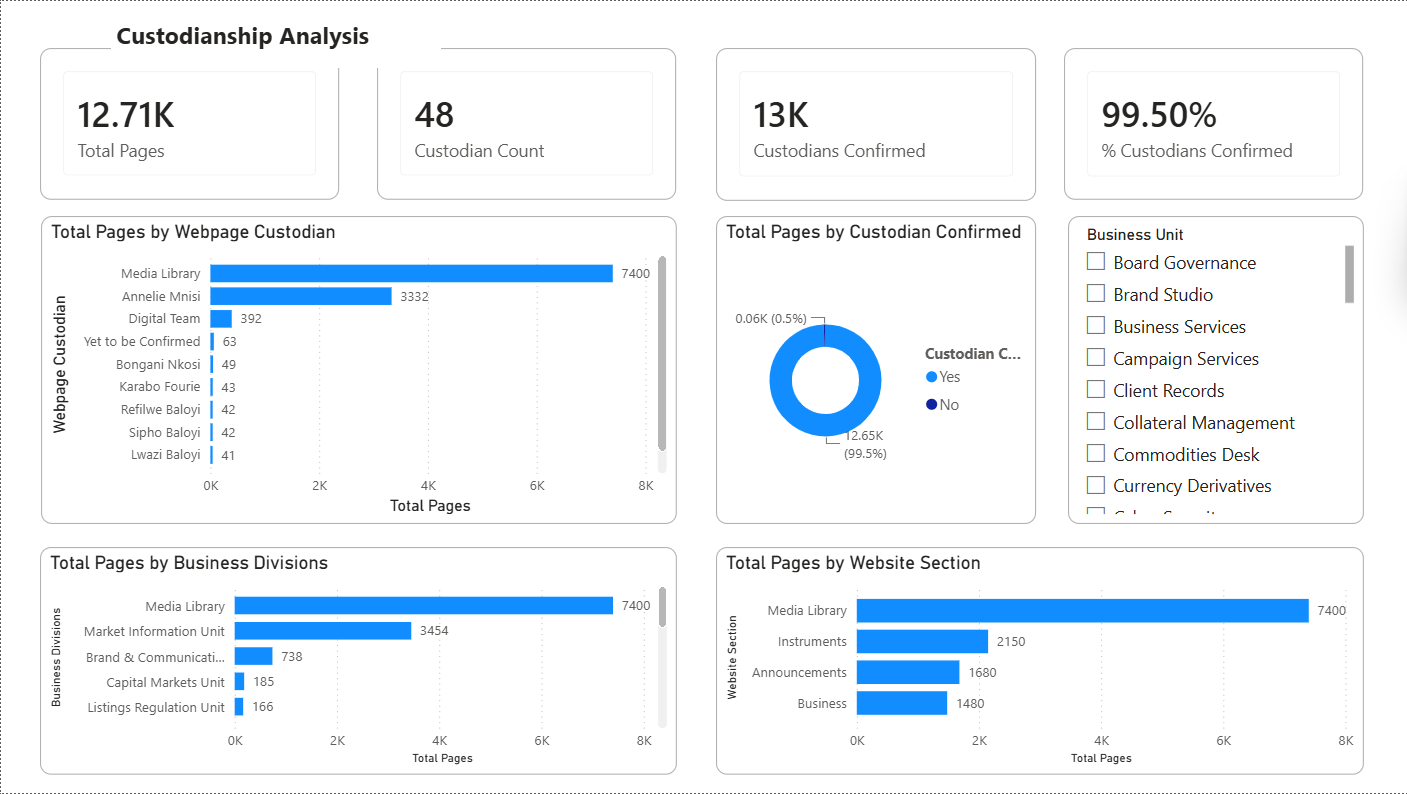

The dashboard page shown, as its layout file describes it:
{"tool":"powerbi","page":{"name":"Custodianship Analysis","canvas":[1280,720],"ordinal":1},"visuals":[{"type":"cardVisual","fields":{"Data":["tblSOR.Total Pages"]},"box":[35.4,42.6,272,137.8],"z":0},{"type":"cardVisual","fields":{"Data":["tblSOR.% Custodians Confirmed"]},"box":[966.8,42.8,272.3,138.1],"z":1000},{"type":"cardVisual","fields":{"Data":["tblSOR.Custodians Confirmed"]},"box":[650.2,42.6,291.1,138.7],"z":2000},{"type":"cardVisual","fields":{"Data":["tblWCR.Custodian Count"]},"box":[341.9,42.6,272,137.8],"z":3000},{"type":"clusteredBarChart","fields":{"Category":["tblWCR.Webpage Custodian"],"Y":["tblSOR.Total Pages"]},"box":[36.7,195.6,577.8,280],"z":4000},{"type":"donutChart","fields":{"Category":["tblWCR.Custodian Confirmed"],"Y":["tblSOR.Total Pages"]},"box":[650,195.6,291.1,280],"z":5000},{"type":"slicer","fields":{"Values":["tblWCR.Business Unit"]},"box":[970,195.6,268.9,280],"z":6000},{"type":"clusteredBarChart","fields":{"Category":["tblWCR.Business Divisions"],"Y":["tblSOR.Total Pages"]},"box":[35.6,496.7,578.9,206.7],"z":7000},{"type":"clusteredBarChart","fields":{"Category":["tblWCR.Website Section"],"Y":["tblSOR.Total Pages"]},"box":[650,496.7,588.9,206.7],"z":8000},{"type":"textbox","box":[100.2,10.7,299.6,49.6],"z":9000}]}

Visuals, with their boxes in screenshot pixels (x1, y1, x2, y2), scaled from the page's 1280x720 canvas onto the 1407x794 screenshot:
cardVisual - tblSOR.Total Pages: [left=39, top=47, right=338, bottom=199]
cardVisual - tblSOR.% Custodians Confirmed: [left=1063, top=47, right=1362, bottom=199]
cardVisual - tblSOR.Custodians Confirmed: [left=715, top=47, right=1035, bottom=200]
cardVisual - tblWCR.Custodian Count: [left=376, top=47, right=675, bottom=199]
clusteredBarChart - tblWCR.Webpage Custodian x tblSOR.Total Pages: [left=40, top=216, right=675, bottom=524]
donutChart - tblWCR.Custodian Confirmed x tblSOR.Total Pages: [left=714, top=216, right=1034, bottom=524]
slicer - tblWCR.Business Unit: [left=1066, top=216, right=1362, bottom=524]
clusteredBarChart - tblWCR.Business Divisions x tblSOR.Total Pages: [left=39, top=548, right=675, bottom=776]
clusteredBarChart - tblWCR.Website Section x tblSOR.Total Pages: [left=714, top=548, right=1362, bottom=776]
textbox: [left=110, top=12, right=439, bottom=66]
